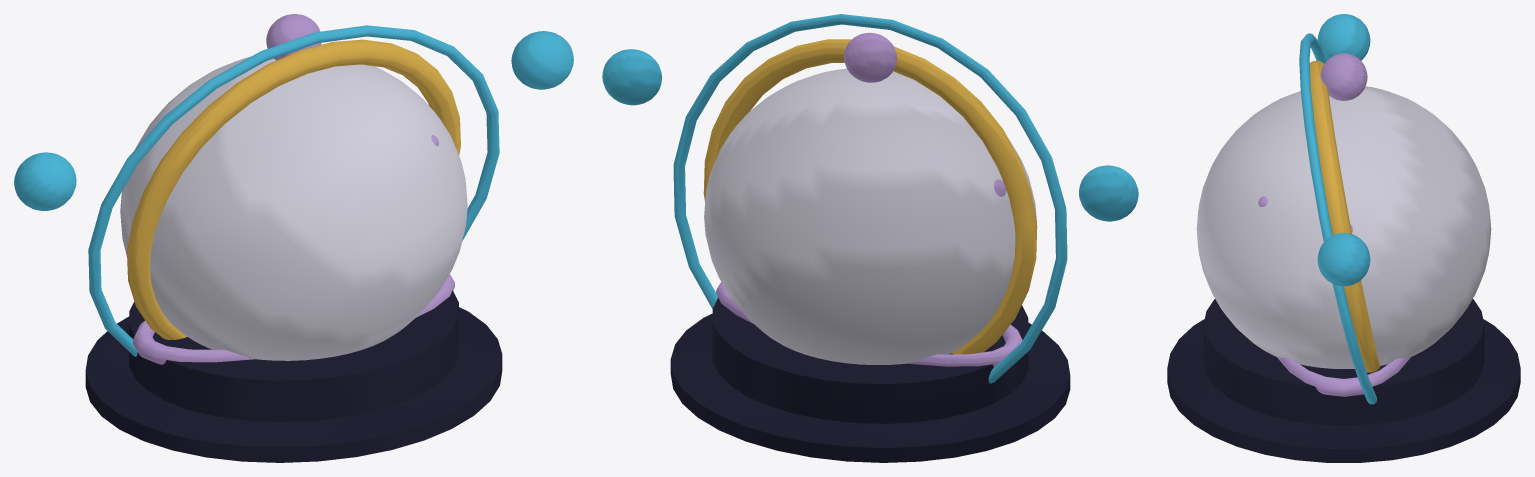
File: 0049_天文图鉴_流星体.glb
3 renders of one model, left to right at view 1: azimuth 30°, elevation 25°; view 2: azimuth 150°, elevation 25°; view 3: azimuth 270°, elevation 25°, orthographic. The views are drawn at different scales.
Visible parts, largest first — view 1: card_0049; view 2: card_0049; view 3: card_0049.
Part boxes in pixels (box(x1,y1,x2,y2)): card_0049: box(14, 14, 573, 462); card_0049: box(602, 14, 1138, 462); card_0049: box(1167, 14, 1520, 462).
Size of the model in its own units: 1.57 by 1 by 0.961.
